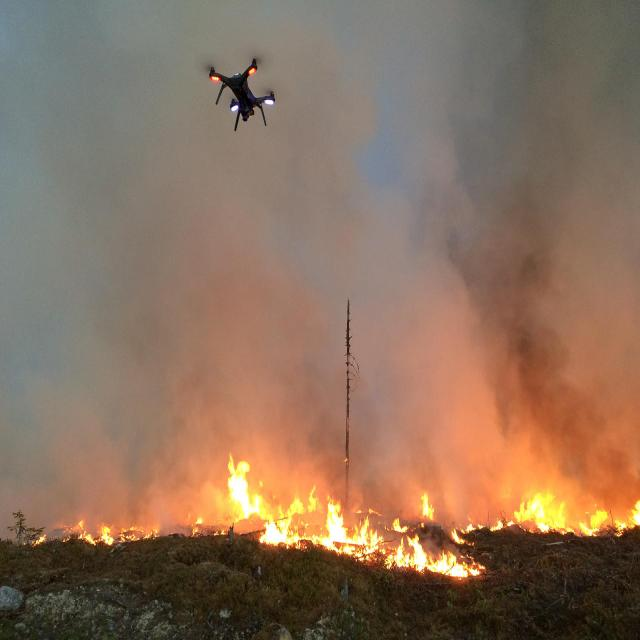Fire: (39, 454, 640, 580)
